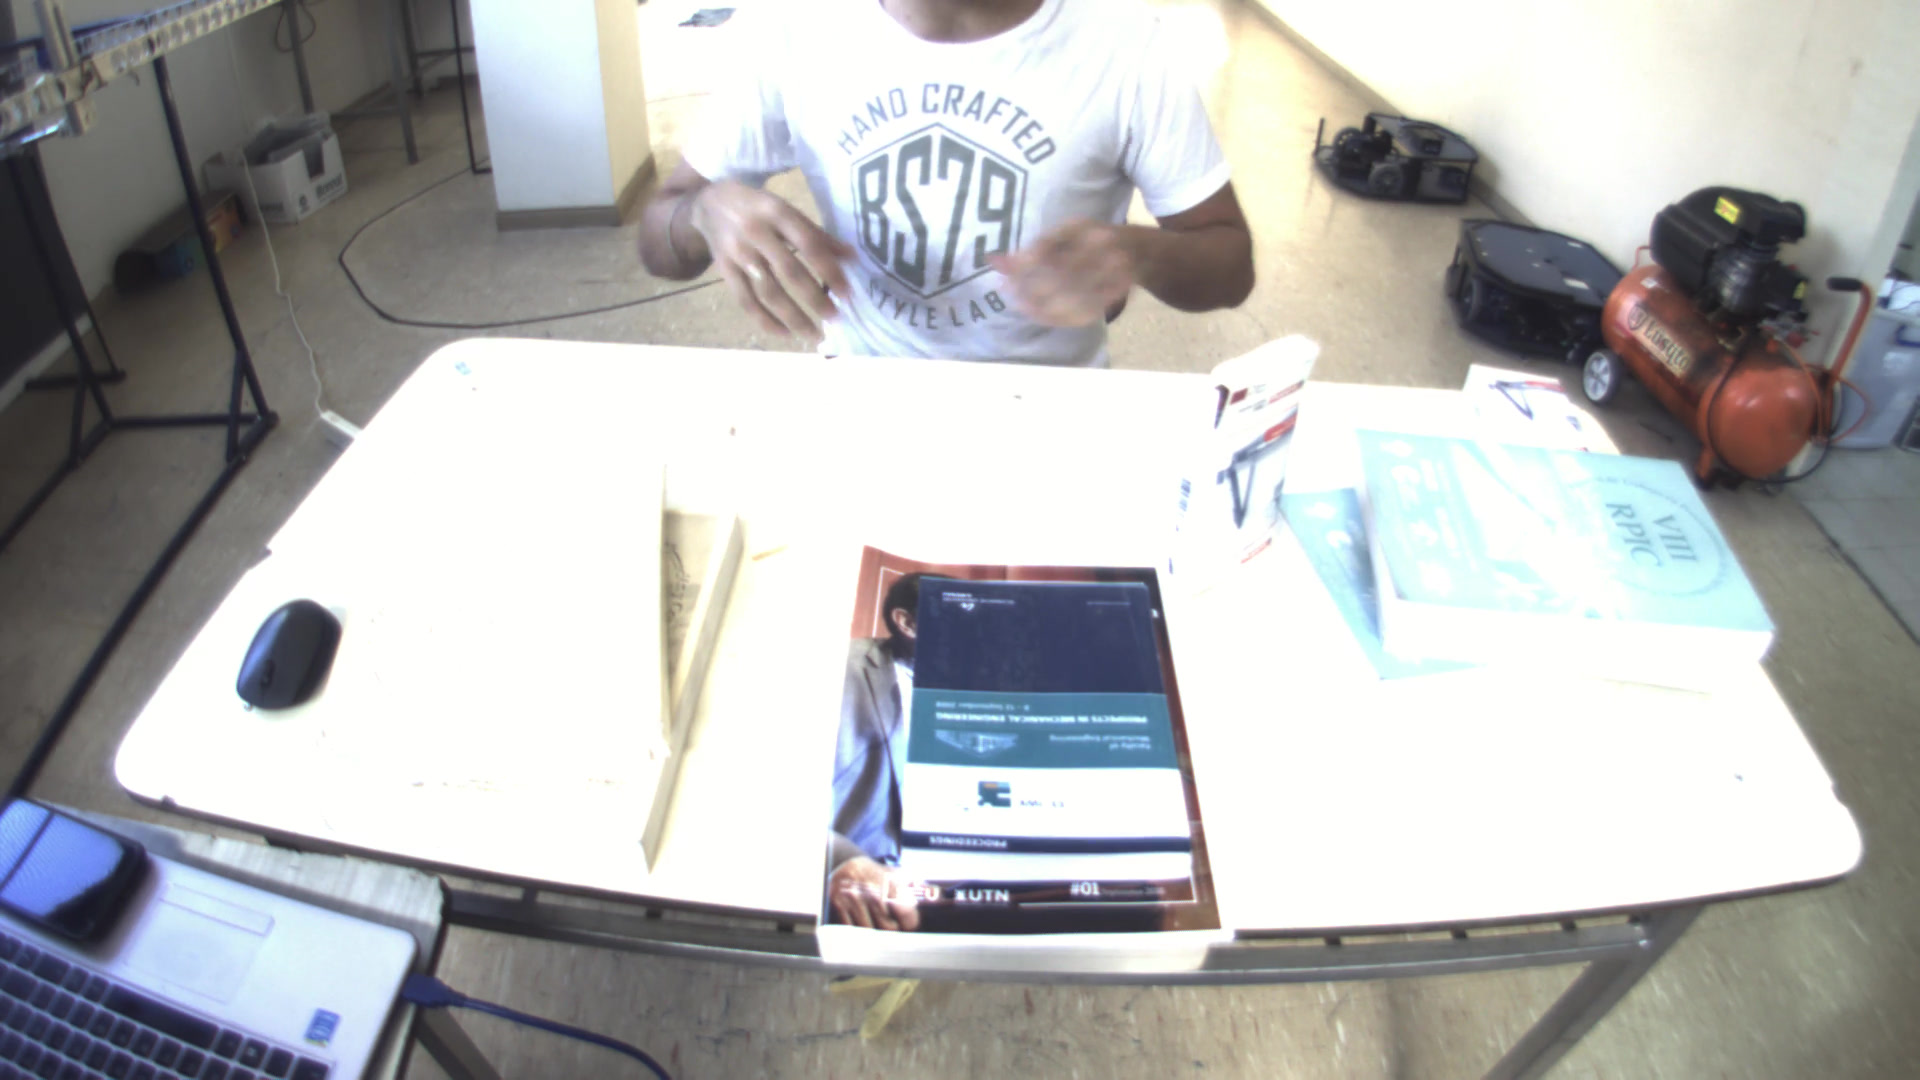hand: (661, 160, 856, 349), (982, 204, 1153, 326)
